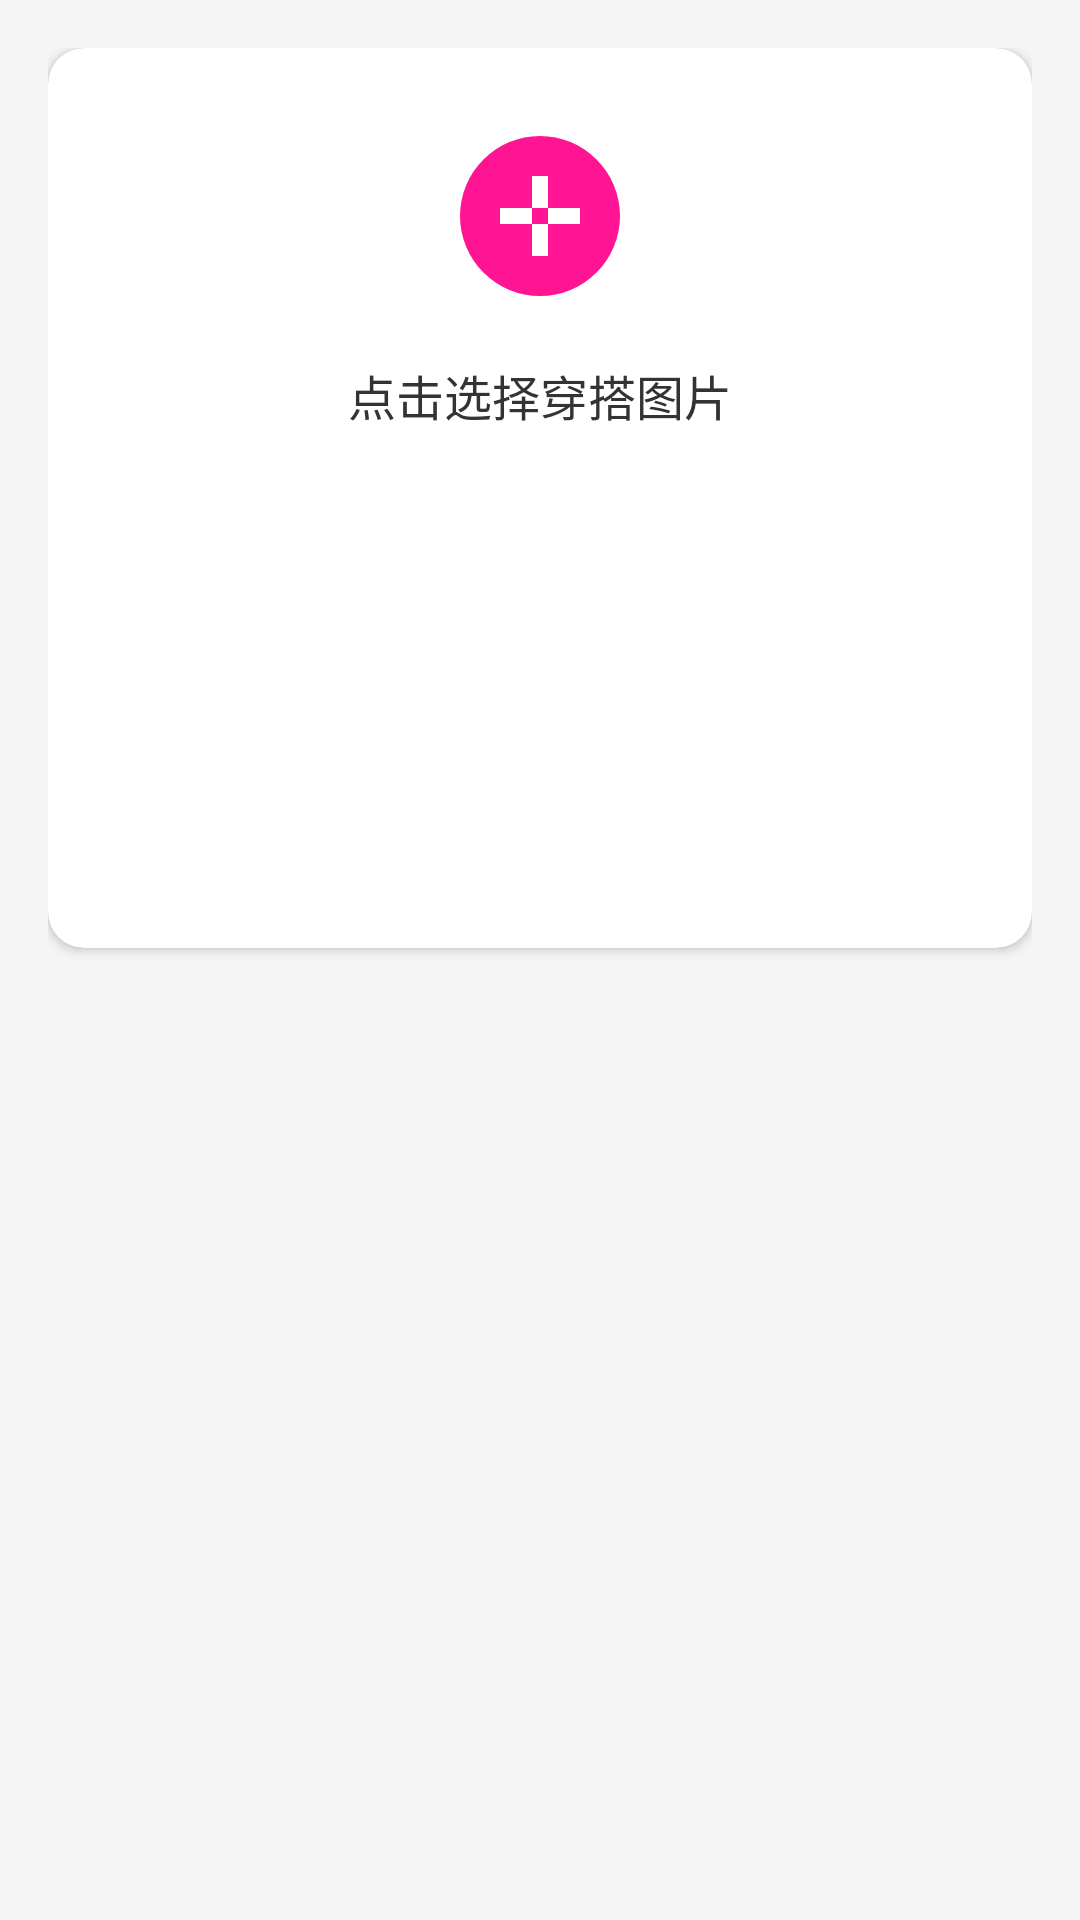

Icons on this 1080px×1920px Android screen, each with the point to tap as (x,y):
publish add: (540,216)
